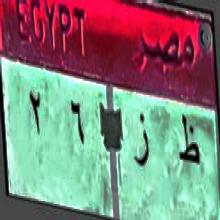2: (27, 85, 42, 141)
6: (69, 96, 87, 154)
Thaa: (178, 108, 200, 174)
zay: (133, 111, 151, 173)
